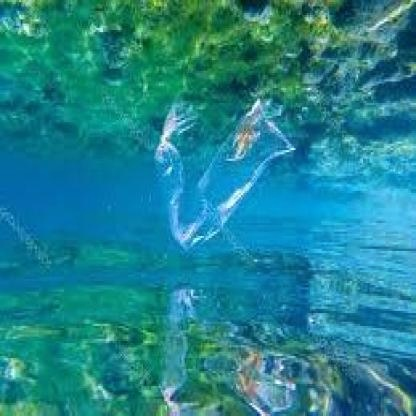pbag: (156, 97, 295, 255)
